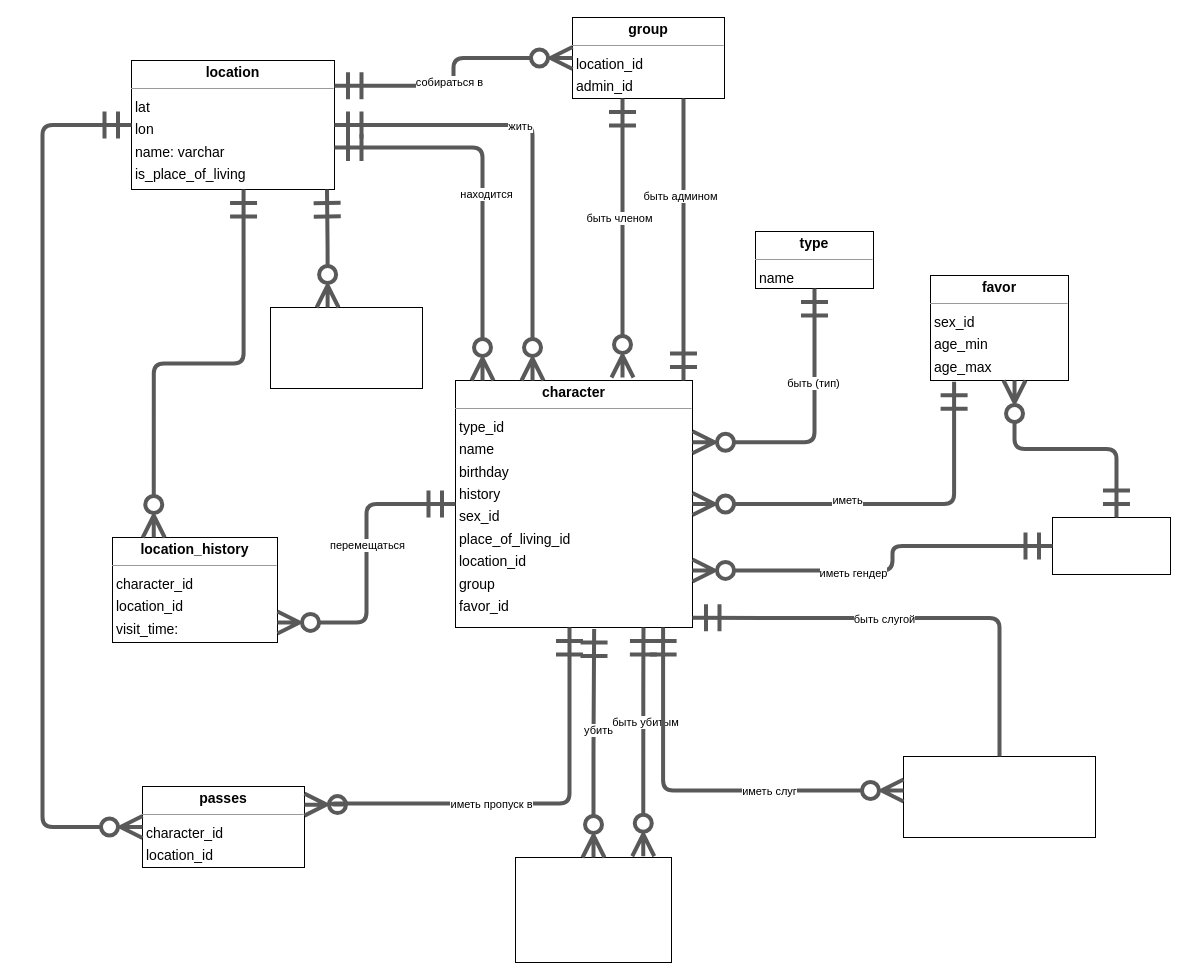
Some shapes in this 1188 by 980 pixel diagram are drawn without their labels. Each missing label, with the centre of its shape:
court location_id verdict: the point at 346,347
murder killer_id victim description: the point at 593,909
sex name: the point at 1111,545
vampire_to_servant servant_id vampire_id: the point at 999,797
